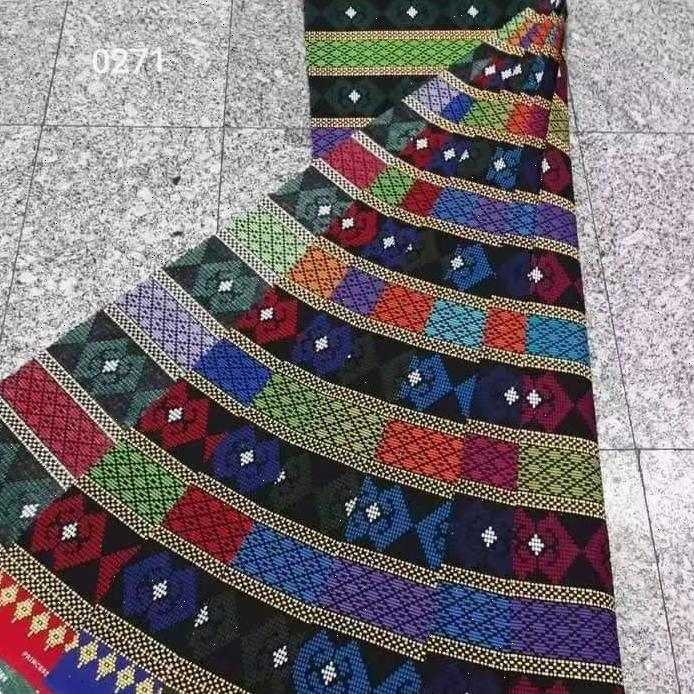malong: (0, 0, 622, 694)
